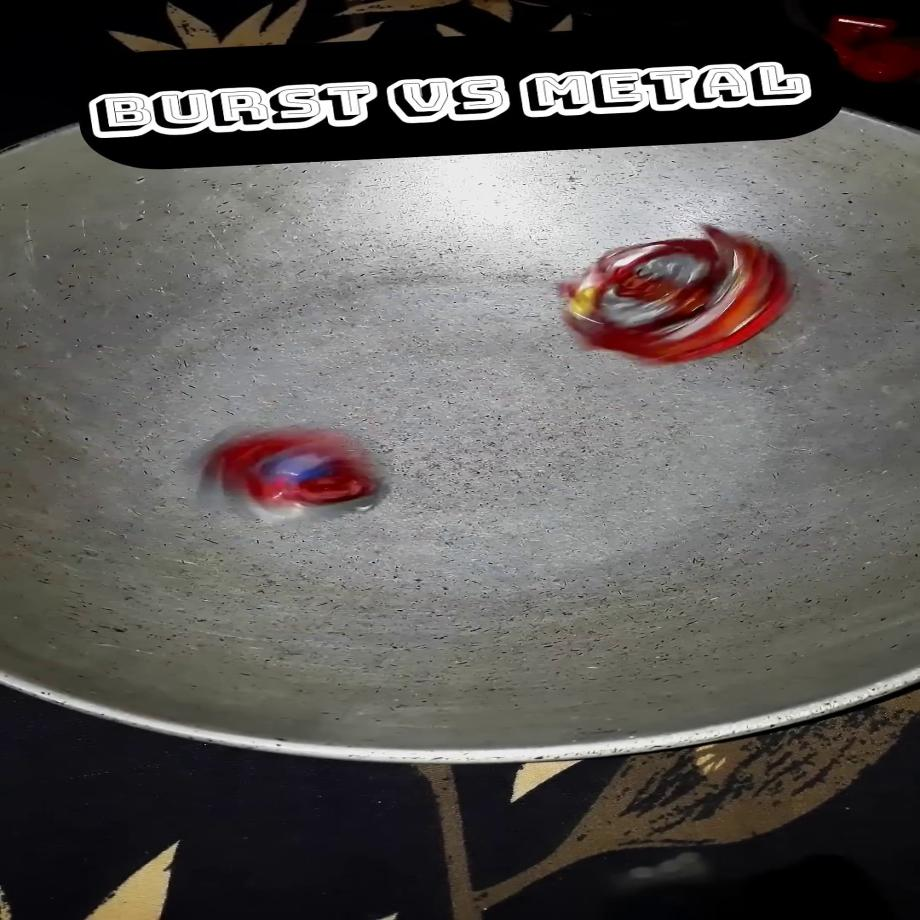beyblade: (535, 204, 805, 387), (183, 398, 405, 542)
